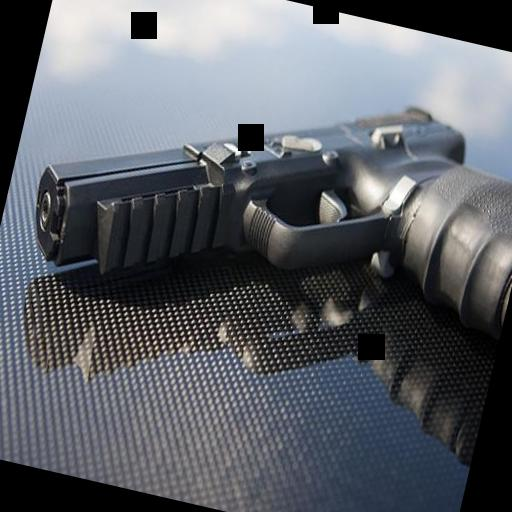Handgun: (7, 18, 512, 425)
